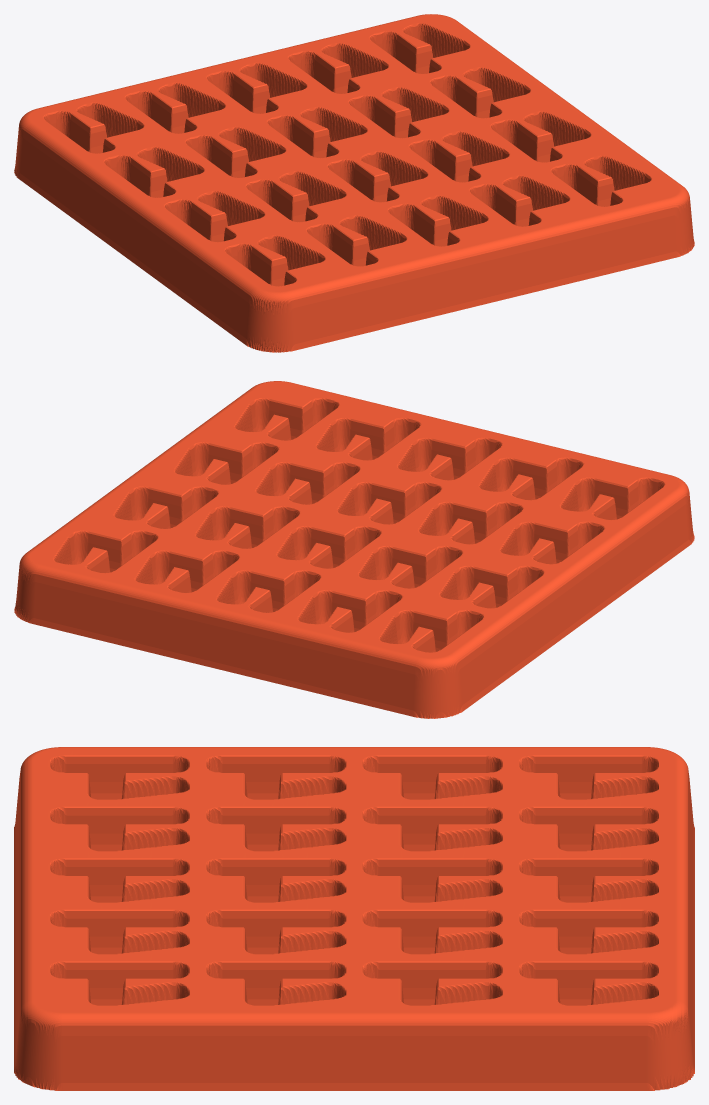
The model's file is mold.glb.
3 renders of one model, top to bottom at view 1: azimuth 30°, elevation 25°; view 2: azimuth 150°, elevation 25°; view 3: azimuth 270°, elevation 25°, orthographic. The views are drawn at different scales.
Visible parts, largest first — view 1: geometry_0; view 2: geometry_0; view 3: geometry_0.
Part boxes in pixels (x1,y1,x2,y2): geometry_0: (14,14,694,352); geometry_0: (14,381,694,718); geometry_0: (14,747,694,1090).
Size of the model in its own units: 0.1246 by 0.0145 by 0.1278.
